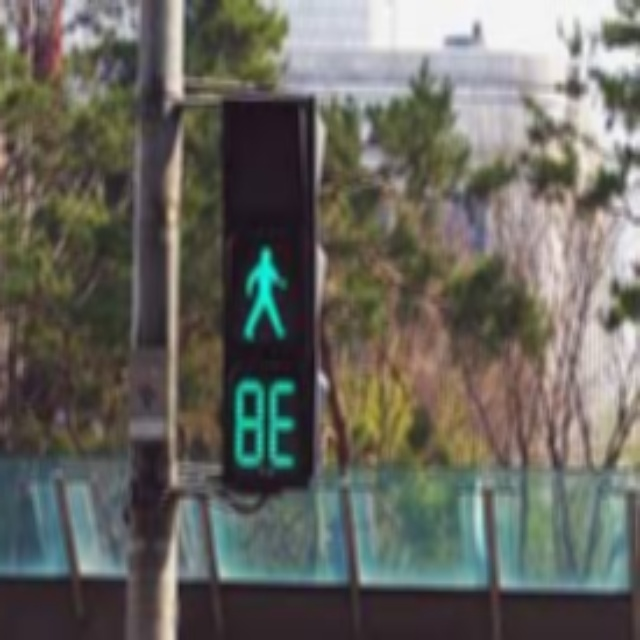green_light: (235, 376, 300, 475), (242, 240, 293, 350)
